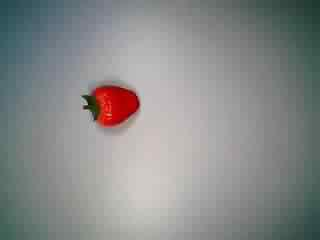strawberry: (79, 73, 147, 137)
